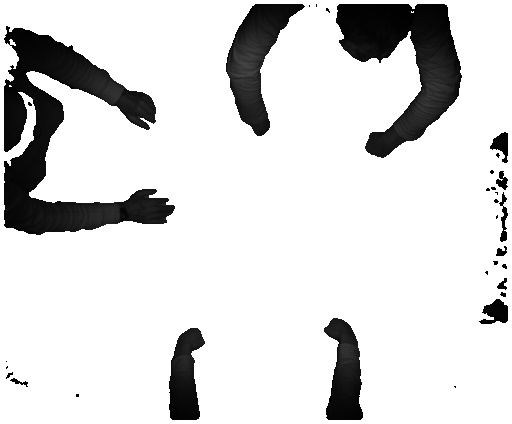fist: (320, 312, 359, 344), (360, 126, 393, 159), (170, 328, 207, 352)
hand: (128, 184, 175, 223), (123, 88, 159, 135)
